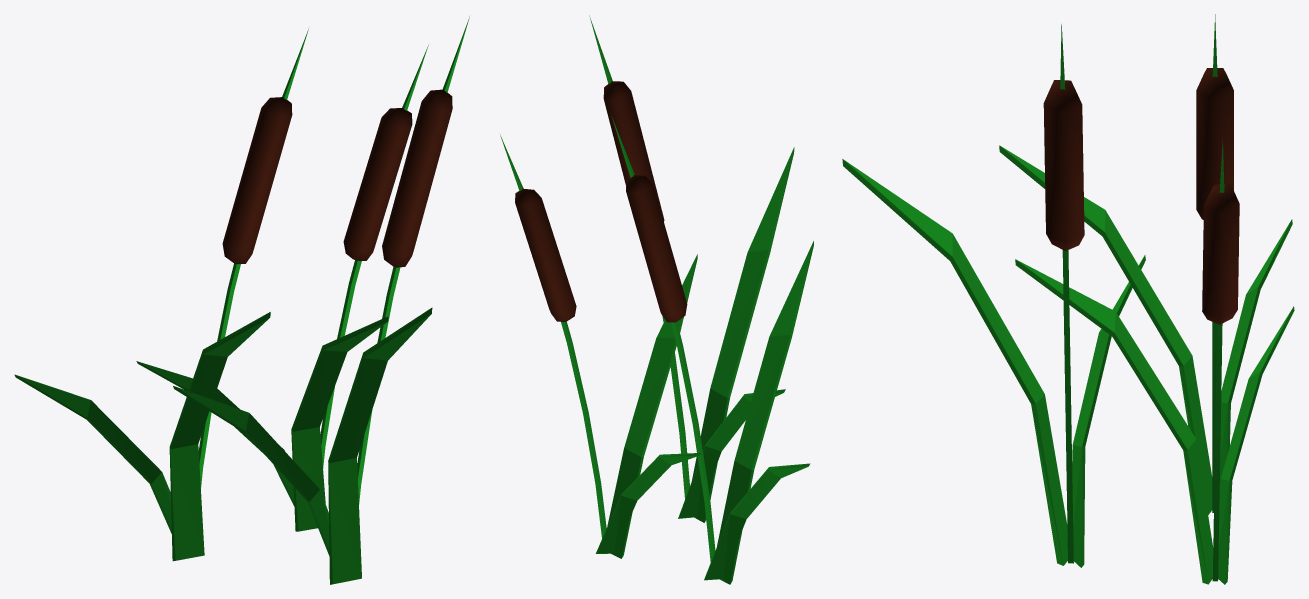
File: boodlegroup.fbx
3 views of the same model, side by side, from view 1: azimuth 30°, elevation 25°; view 2: azimuth 150°, elevation 25°; view 3: azimuth 270°, elevation 25° (orthographic). The views are drawn at different scales.
Visible parts, largest first — view 1: Line002; view 2: Line002; view 3: Line002.
Boxes of the visible parts, x1,y1,x2,y2 form: Line002: [14, 16, 469, 584]; Line002: [500, 15, 813, 584]; Line002: [842, 14, 1294, 584].
Bounding box in the file's own units: 67.38 × 90.87 × 60.99.
